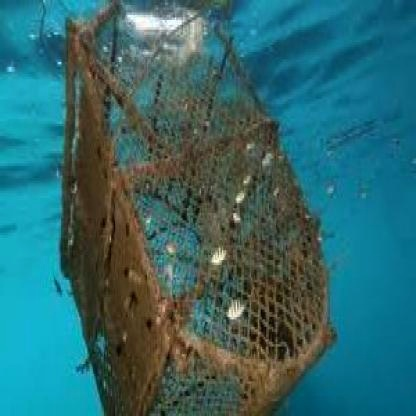net: (58, 17, 327, 411)
